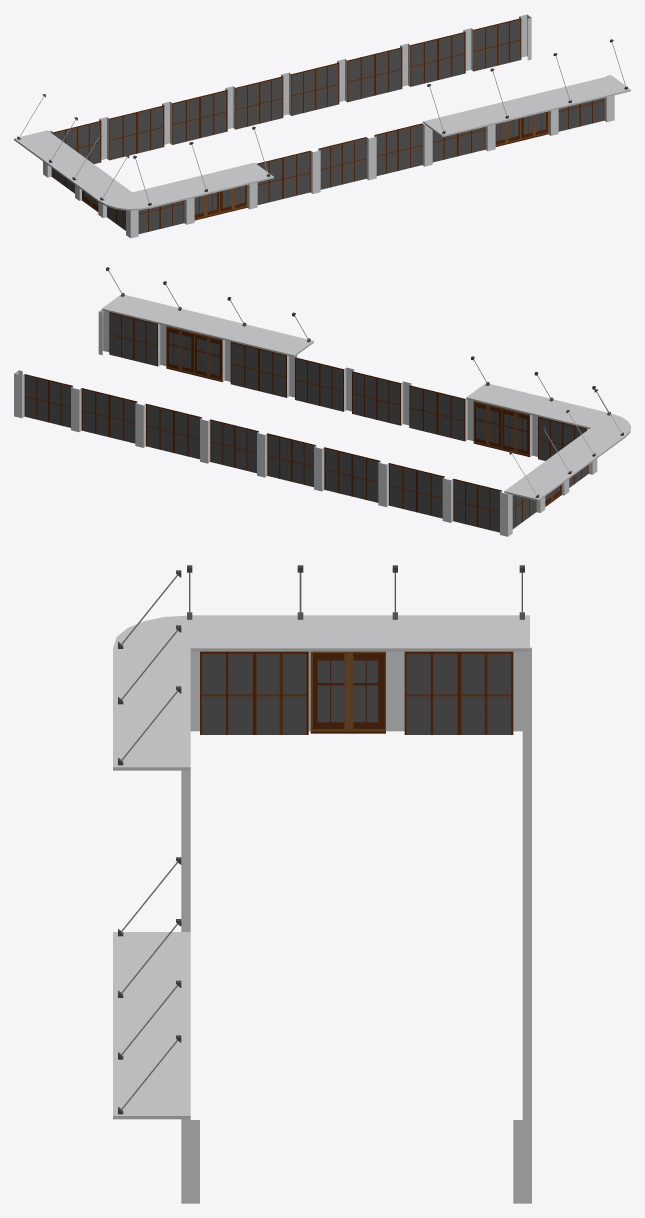
Rendered from BuildingSmall5_1.fbx.
The picture shows the model from 3 angles, top to bottom: view 1: azimuth 30°, elevation 25°; view 2: azimuth 150°, elevation 25°; view 3: azimuth 270°, elevation 25°; orthographic projection. The views are drawn at different scales.
Parts seen in each view (by area): view 1: BuildingSmall5_1; view 2: BuildingSmall5_1; view 3: BuildingSmall5_1.
Boxes of the visible parts, x1,y1,x2,y2 form: BuildingSmall5_1: (14,14,630,238); BuildingSmall5_1: (14,267,630,536); BuildingSmall5_1: (113,565,531,1203).
Bounding box in the file's own units: 6430 × 978 × 2270.
